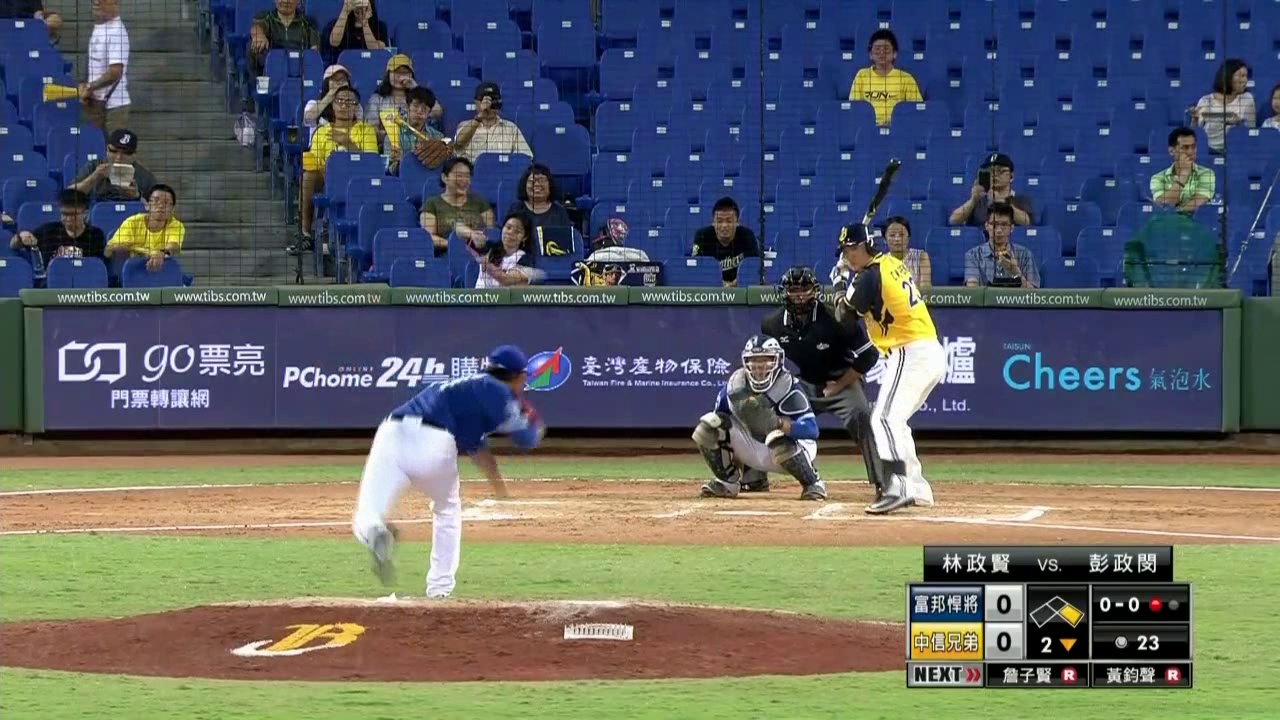ball: (524, 266, 540, 281)
base: (1028, 595, 1086, 628)
bat: (838, 152, 904, 255)
out: (1143, 587, 1186, 622)
score1: (988, 588, 1020, 622)
score2: (985, 625, 1019, 658)
session: (1027, 628, 1086, 660)
strikeball: (1093, 589, 1143, 621)
total: (1093, 628, 1180, 657)
